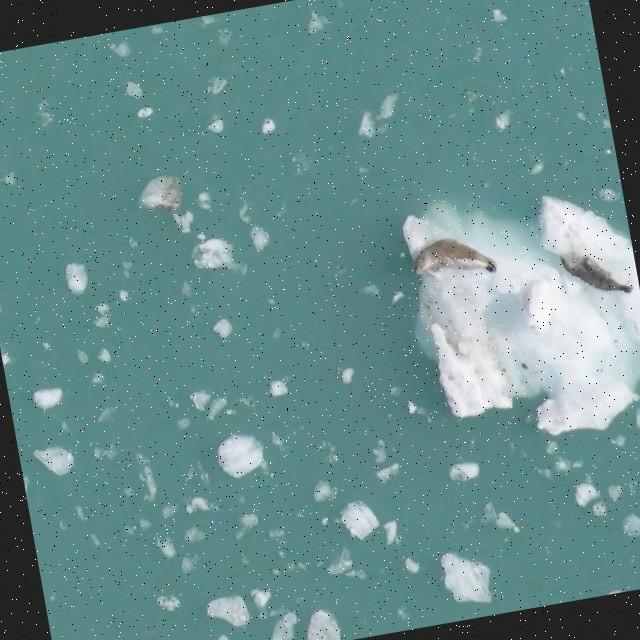seal: (412, 239, 498, 276), (561, 254, 634, 294)
